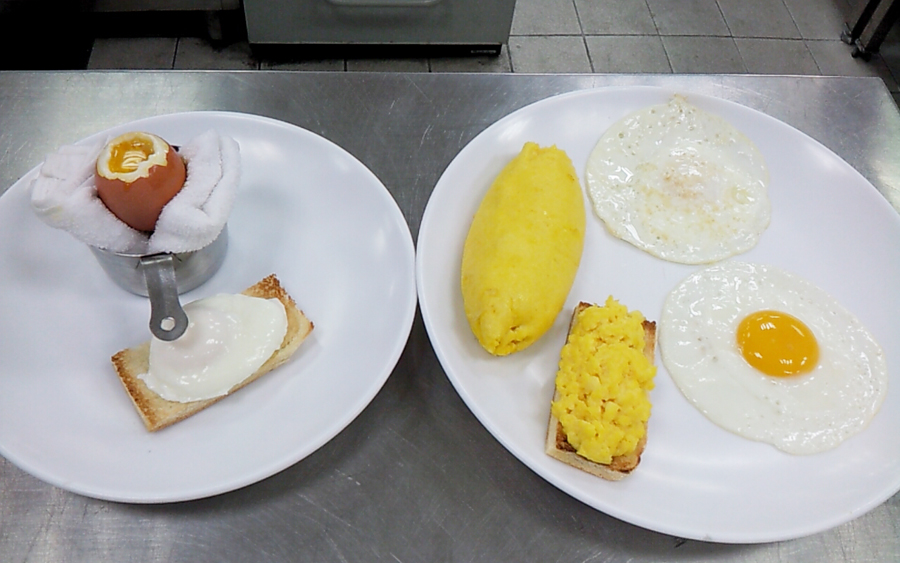fried egg: (641, 254, 870, 447), (593, 115, 777, 251)
